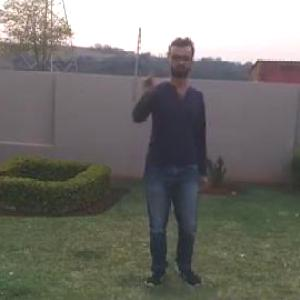land_hand: (136, 64, 168, 103)
